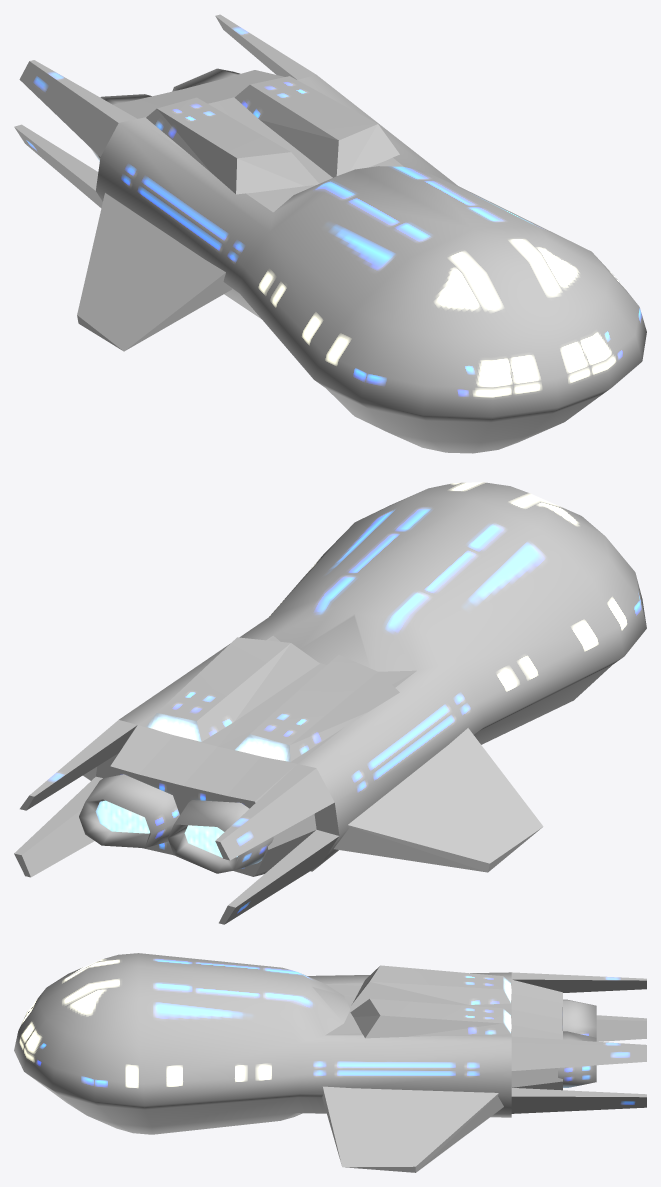
The model's file is astraShuttle.FBX.
3 renders of one model, top to bottom at view 1: azimuth 30°, elevation 25°; view 2: azimuth 150°, elevation 25°; view 3: azimuth 270°, elevation 25°, orthographic. The views are drawn at different scales.
Parts seen in each view (by area): view 1: AstraShuttle01; view 2: AstraShuttle01; view 3: AstraShuttle01.
Part boxes in pixels (x1,y1,x2,y2): AstraShuttle01: [14, 14, 646, 453]; AstraShuttle01: [14, 482, 646, 924]; AstraShuttle01: [14, 953, 646, 1172].
Bounding box in the file's own units: 0.1582 × 0.2835 × 0.0773.
